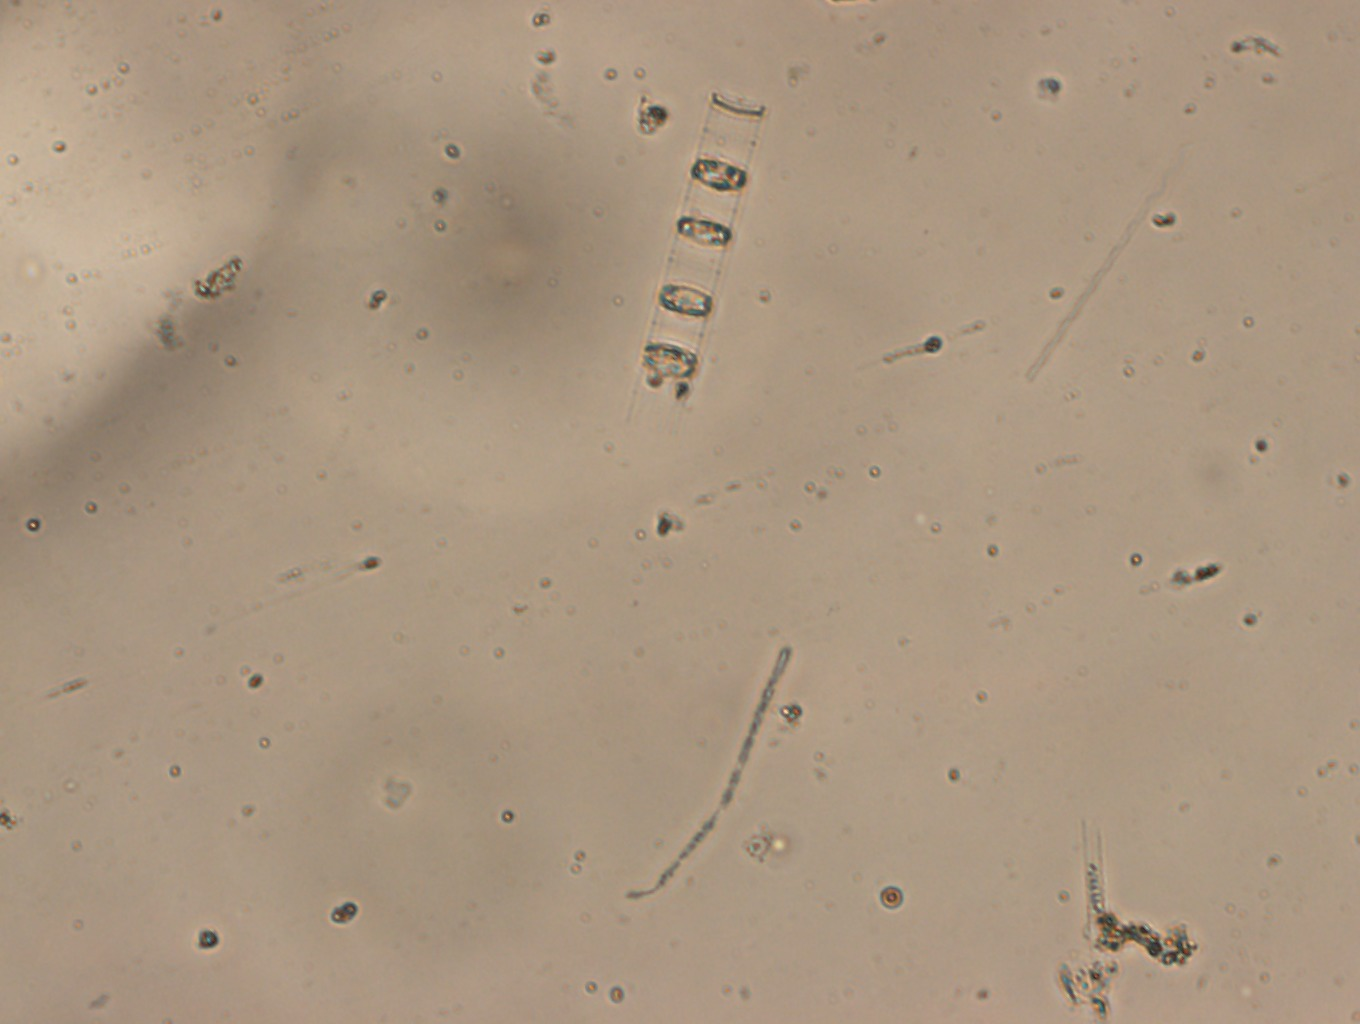skeletonema: (622, 90, 765, 425)
